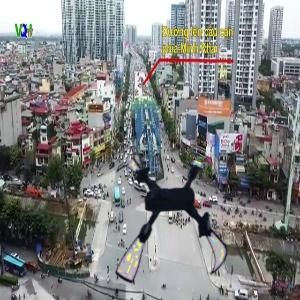drone: (98, 155, 238, 295)
